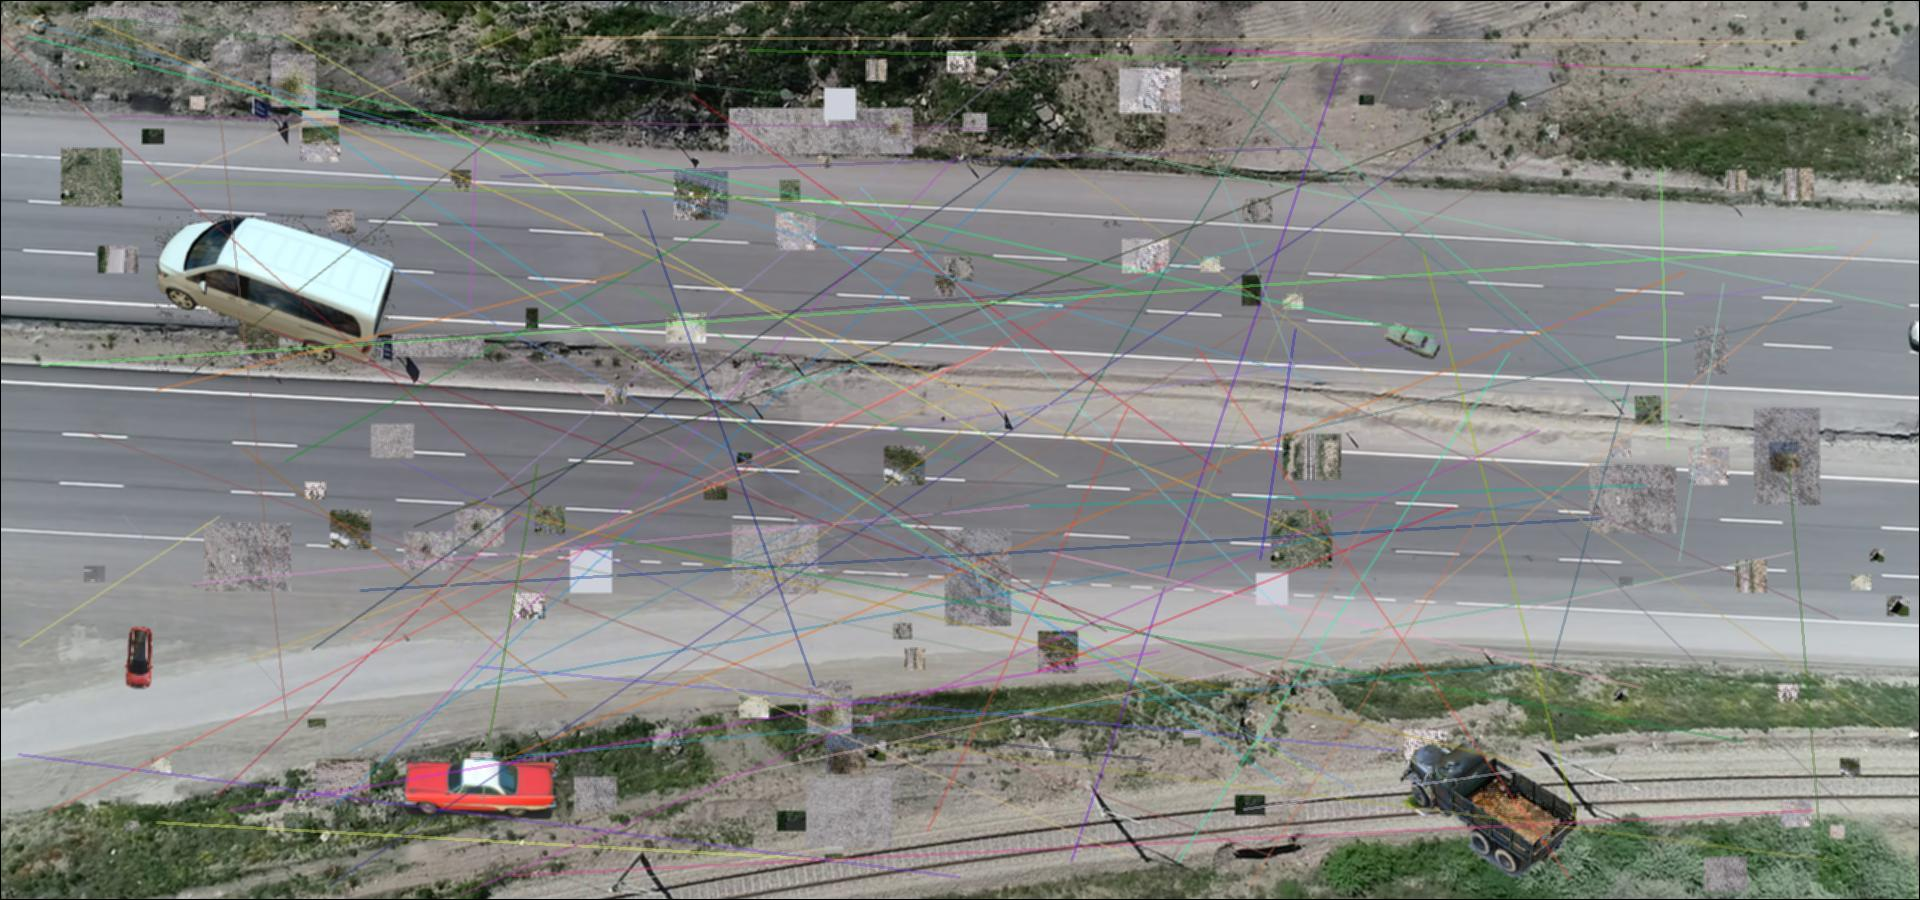arac: (156, 216, 396, 371), (1393, 733, 1578, 877), (397, 754, 576, 819), (1382, 320, 1441, 360), (122, 626, 154, 691)
